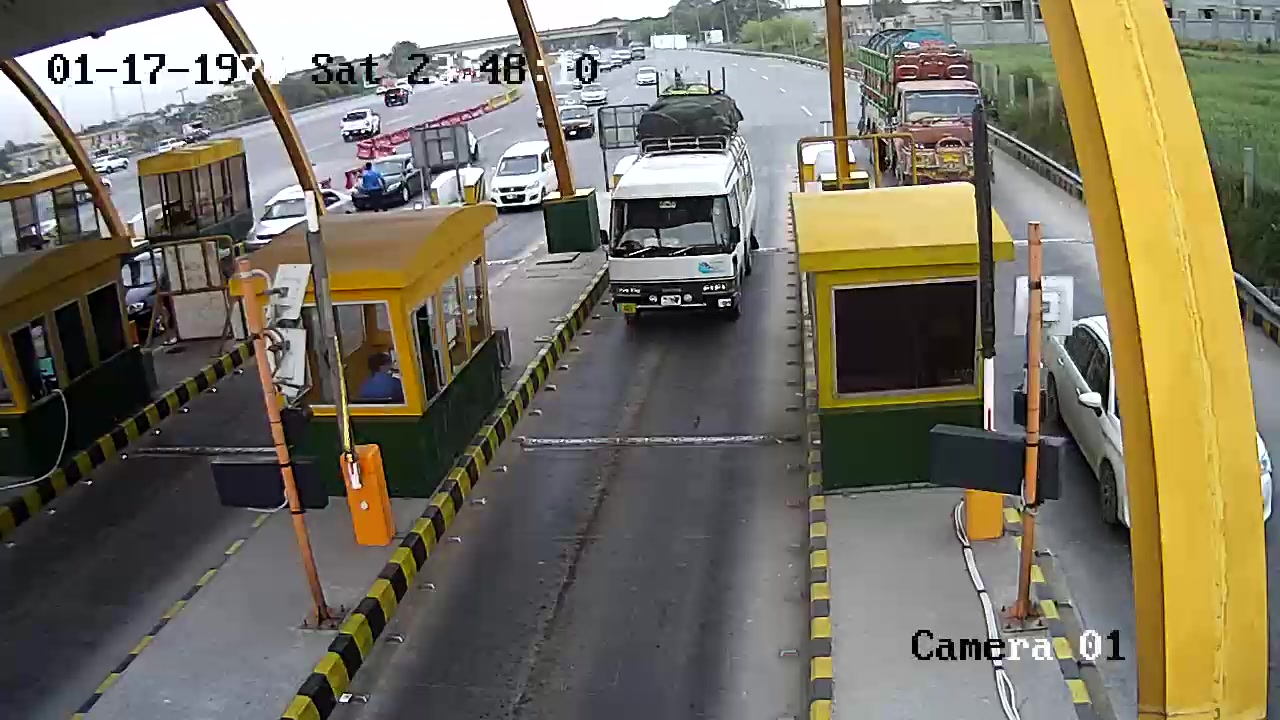F3: (598, 61, 760, 337)
